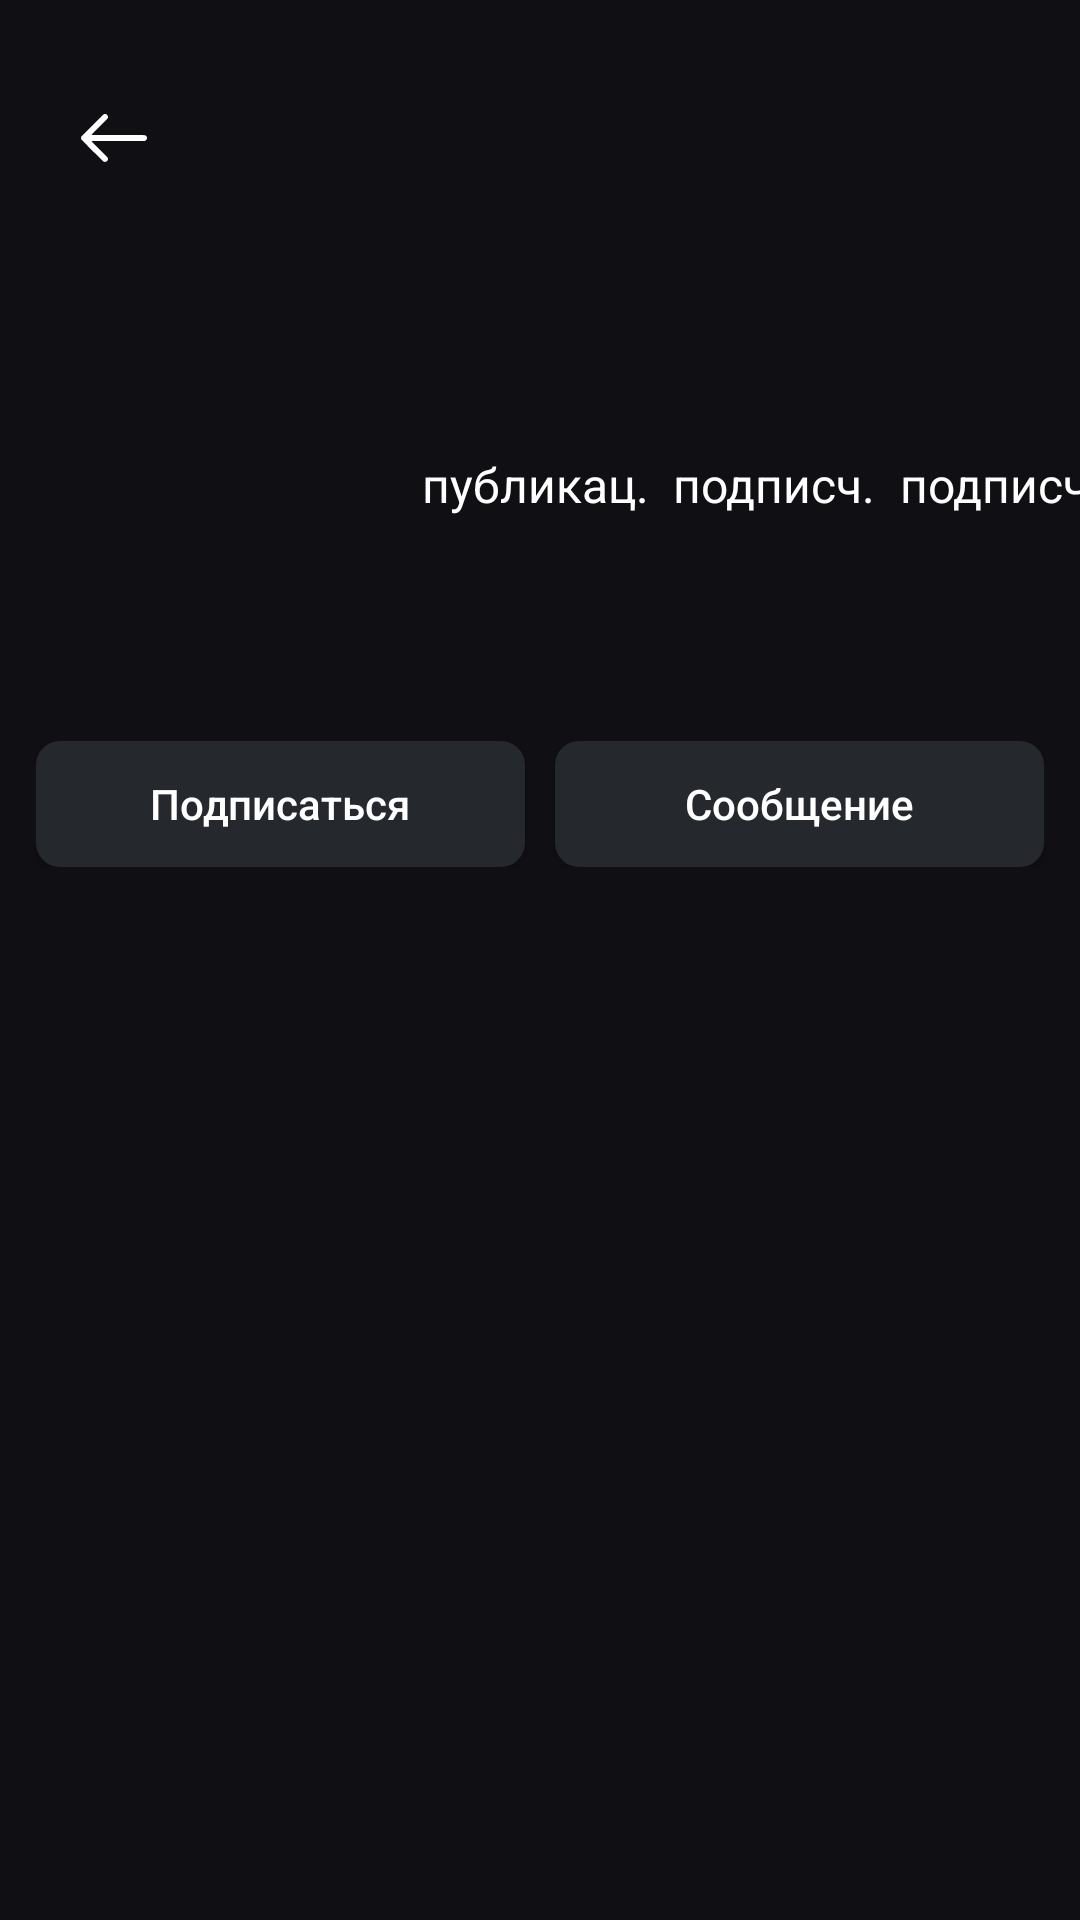

Screen size 1080w x 1920h. Icon name, then its center in pixels as (x=x, y=y):
arrow back: (x=114, y=138)
